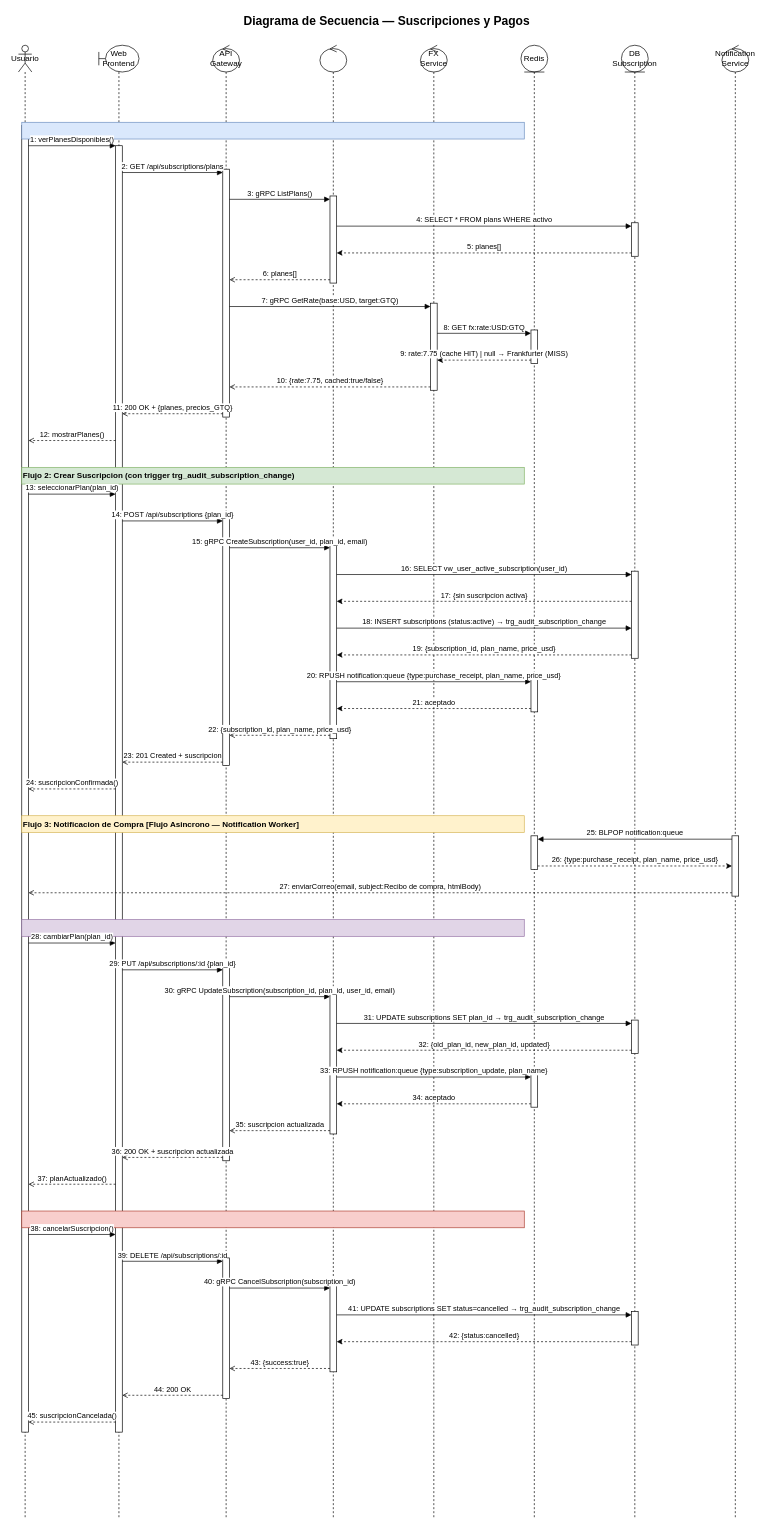
The diagram is 767 pixels wide and 1531 high, and some of its shapes have lost their labels. Here are the shapes that lost their labels. From the top down, the centre of each, then its label:
At point (272, 130): "Flujo 1: Listar Planes con Conversion de Tipo de Cambio (FX + Redis Cache)".
At point (333, 782): "Subscription Service".
At point (272, 927): "Flujo 4: Actualizar Plan de Suscripcion".
At point (272, 1219): "Flujo 5: Cancelar Suscripcion".
